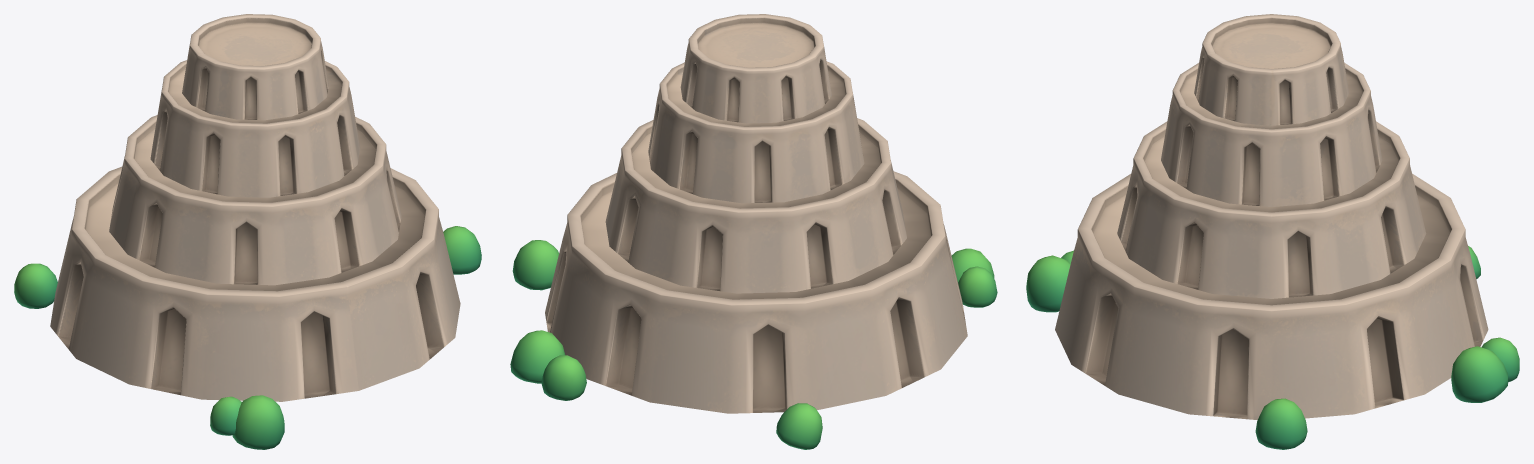
Rendered from Tower.fbx.
The picture shows the model from 3 angles, left to right: view 1: azimuth 30°, elevation 25°; view 2: azimuth 150°, elevation 25°; view 3: azimuth 270°, elevation 25°; orthographic projection. The views are drawn at different scales.
Parts seen in each view (by area): view 1: Tower; view 2: Tower; view 3: Tower.
Boxes of the visible parts, <box> form: Tower: <box>14,14,481,449</box>; Tower: <box>510,14,997,449</box>; Tower: <box>1026,14,1519,449</box>.
Size of the model in its own units: 188 by 133 by 189.
